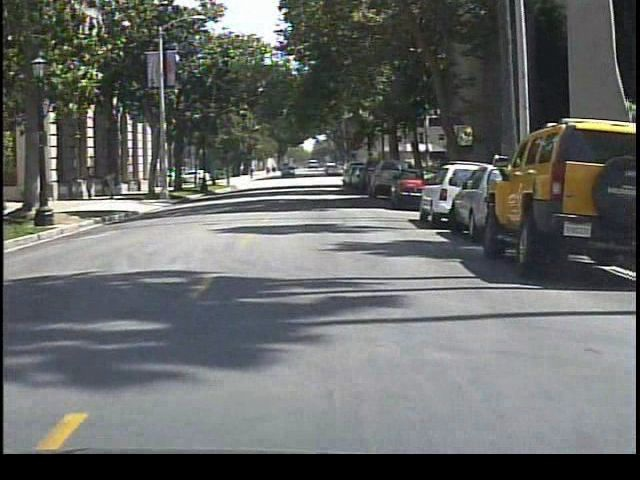person: (102, 164, 126, 200), (80, 163, 100, 204)
